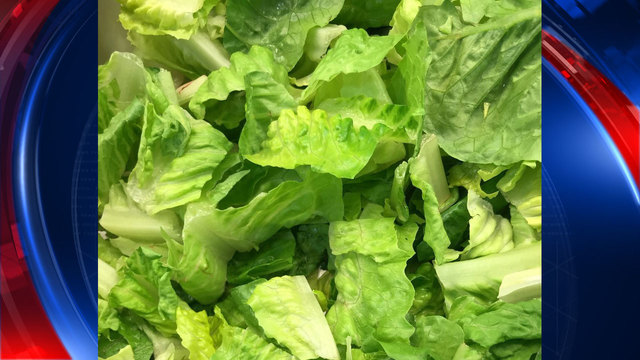chopped lettuce: (111, 8, 526, 348)
